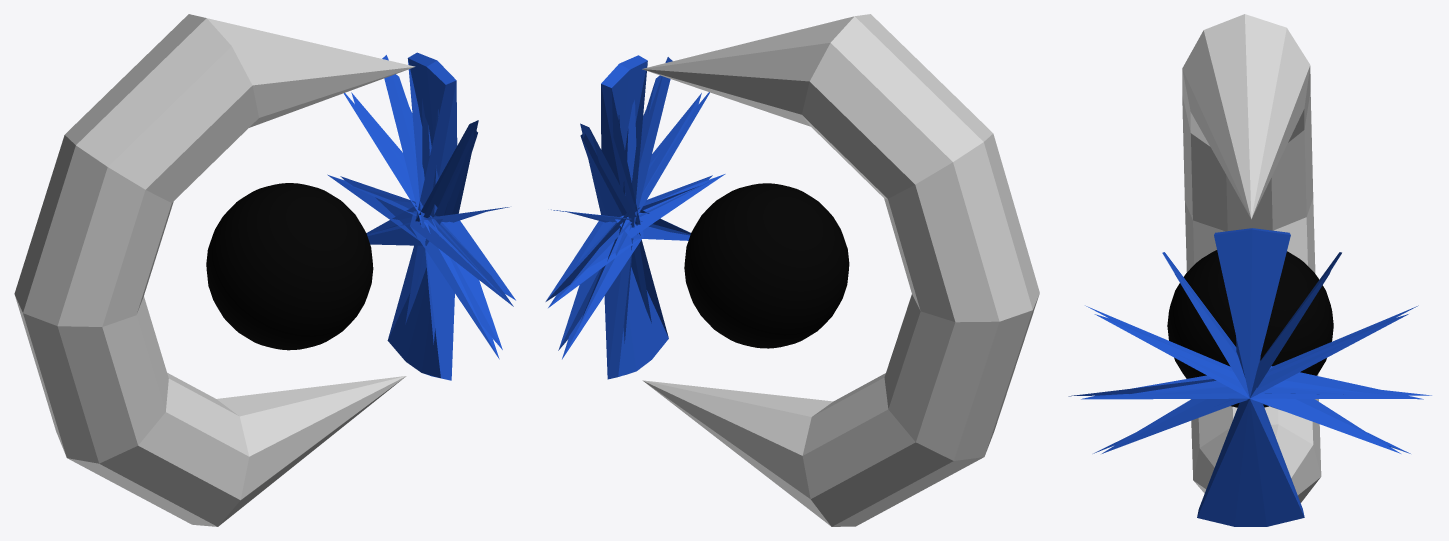
The model's file is key item .fbx.
3 views of the same model, side by side, from view 1: azimuth 30°, elevation 25°; view 2: azimuth 150°, elevation 25°; view 3: azimuth 270°, elevation 25° (orthographic).
Parts seen in each view (by area): view 1: Torus, Circle, Sphere; view 2: Torus, Circle, Sphere; view 3: Torus, Circle, Sphere.
Part boxes in pixels (bbox=[...]): Torus: bbox=[14, 14, 415, 526]; Circle: bbox=[327, 52, 515, 380]; Sphere: bbox=[206, 183, 373, 350]; Torus: bbox=[642, 14, 1039, 526]; Circle: bbox=[545, 55, 725, 379]; Sphere: bbox=[684, 183, 849, 348]; Torus: bbox=[1182, 14, 1321, 502]; Circle: bbox=[1068, 228, 1431, 526]; Sphere: bbox=[1167, 250, 1333, 407].
Size of the model in its own units: 381 by 426 by 280.
